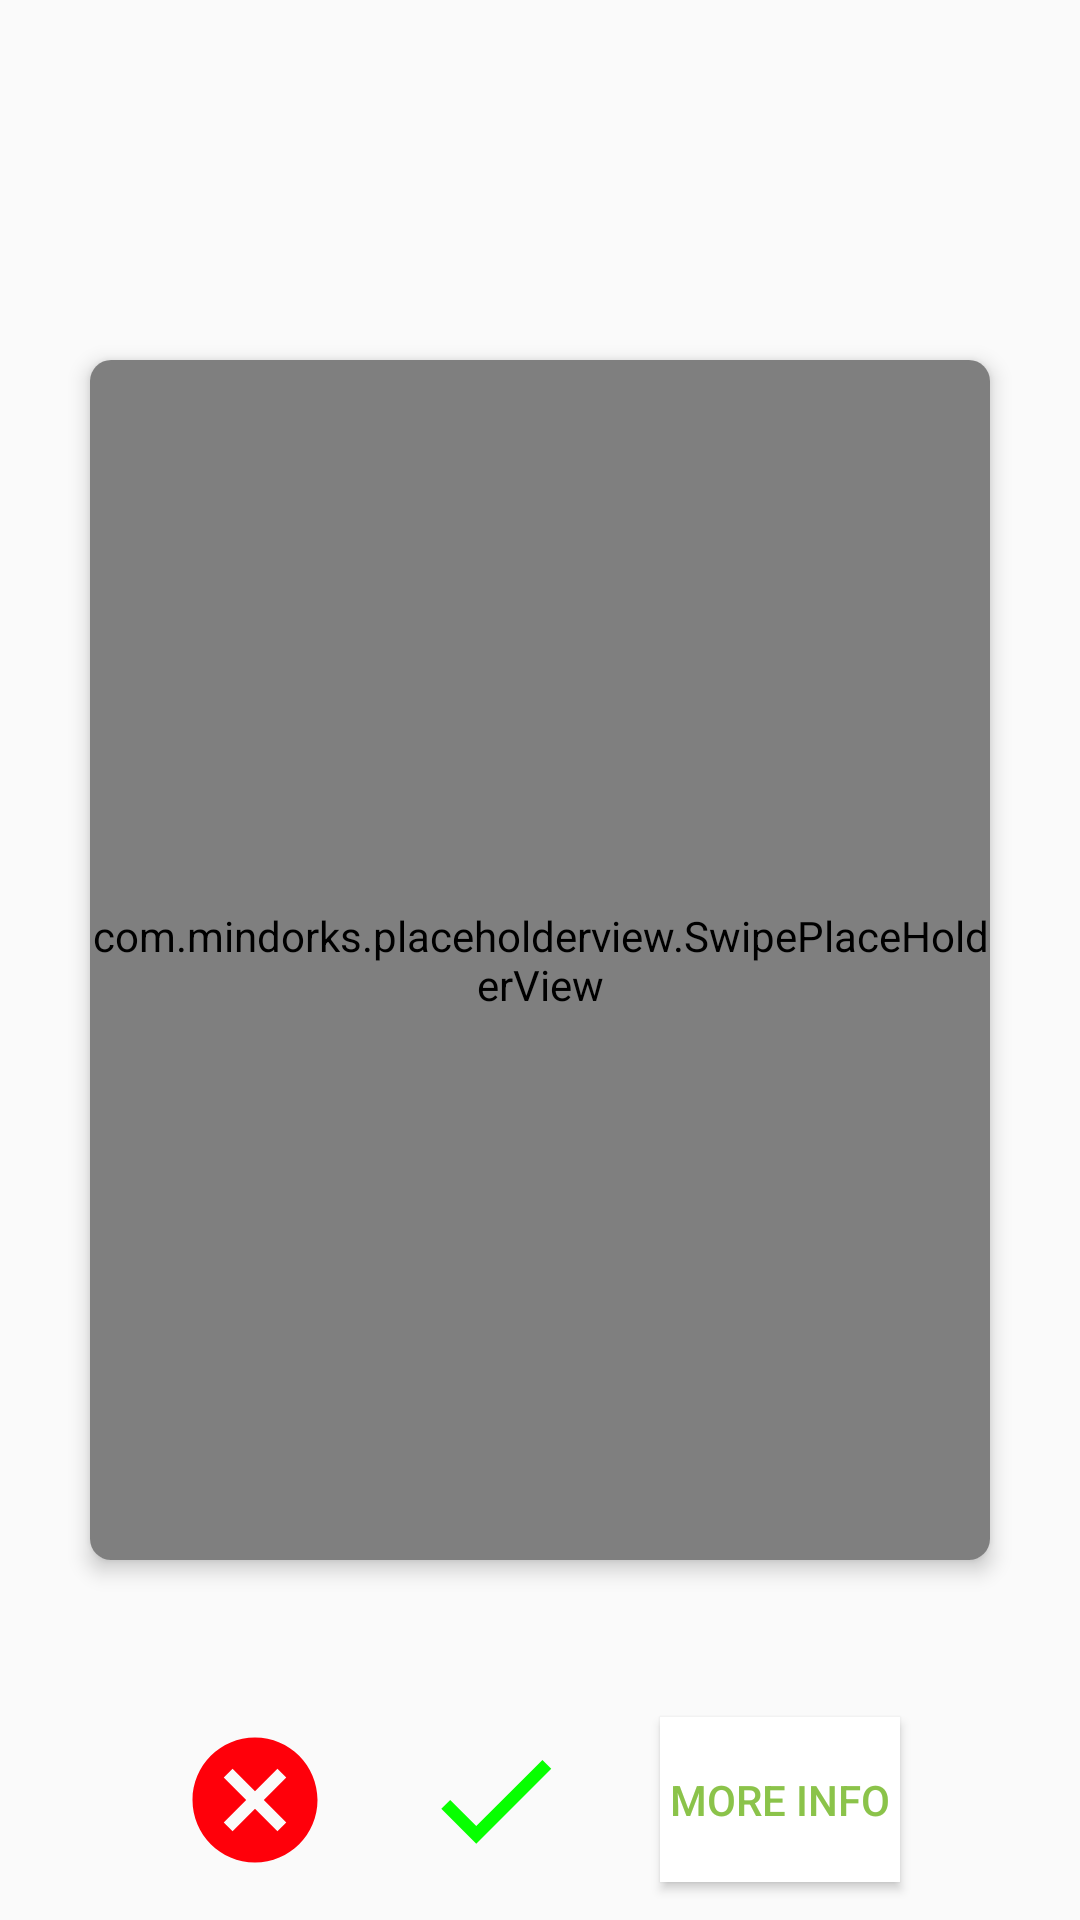

Locate icon controls on the screen. Image size 1080w x 1920h, boxes as (x1, y1, x2, y2).
check: (441, 1760, 551, 1844)
reject: (192, 1737, 318, 1863)
